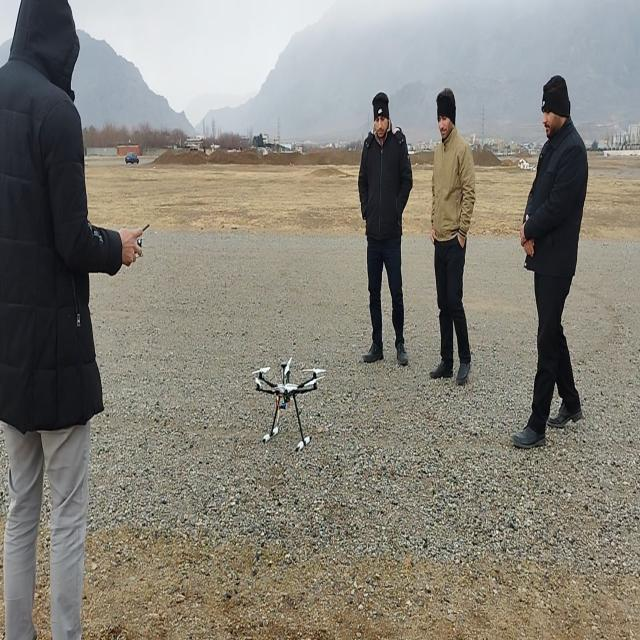drone: (252, 358, 326, 453)
